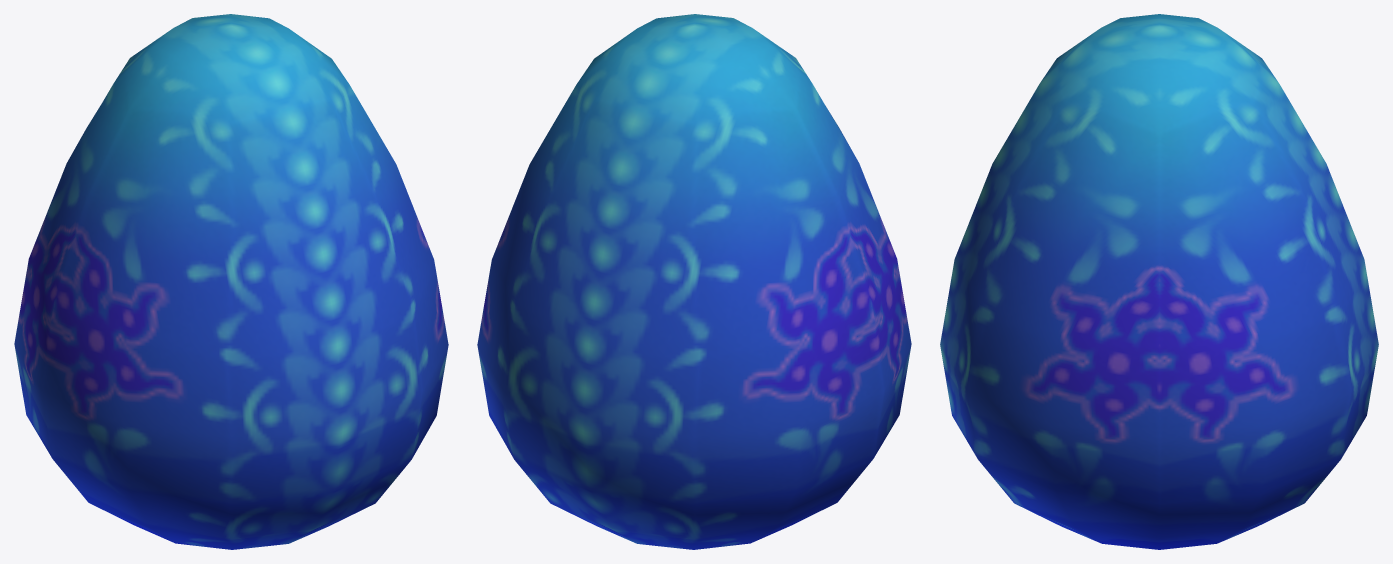
File: Egg_08(HighPoly).FBX
The picture shows the model from 3 angles, left to right: view 1: azimuth 30°, elevation 25°; view 2: azimuth 150°, elevation 25°; view 3: azimuth 270°, elevation 25°; orthographic projection.
Parts seen in each view (by area): view 1: Egg_08(HighPoly); view 2: Egg_08(HighPoly); view 3: Egg_08(HighPoly).
Boxes of the visible parts, x1,y1,x2,y2 form: Egg_08(HighPoly): (14,14,448,549); Egg_08(HighPoly): (477,14,911,549); Egg_08(HighPoly): (940,14,1378,549).
Bounding box in the file's own units: 0.4668 × 0.5861 × 0.4674.
